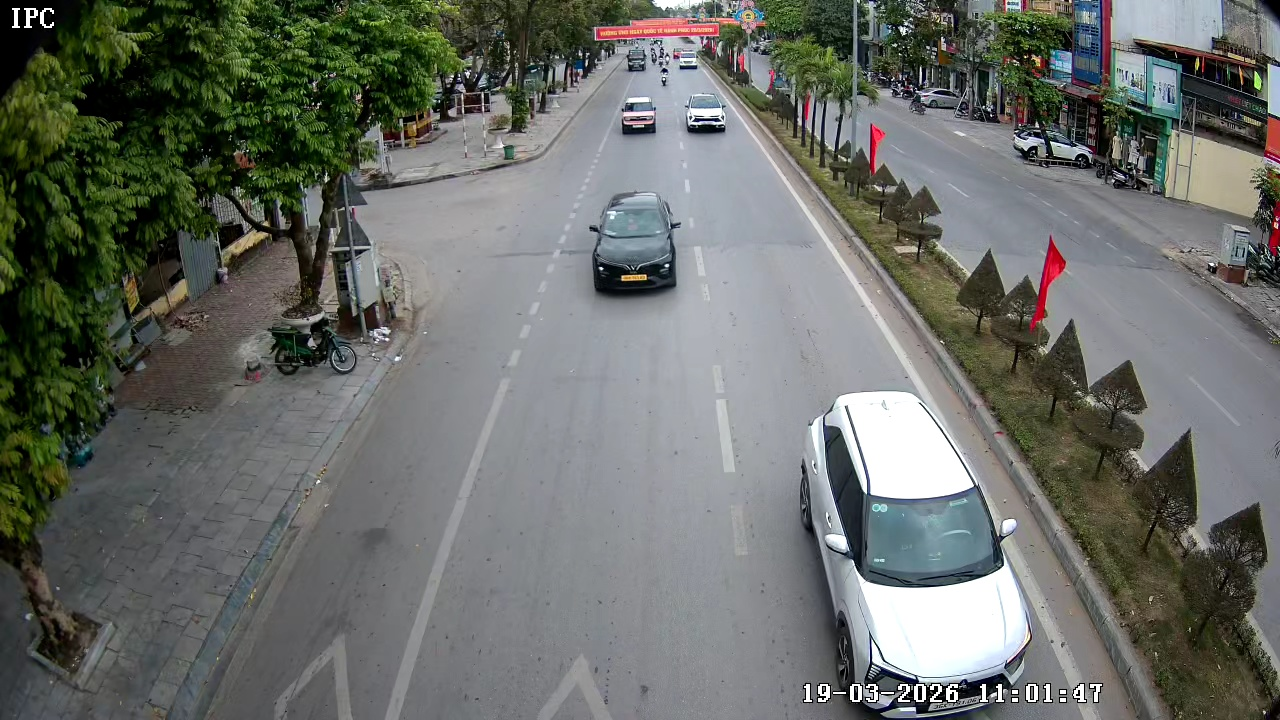car: (800, 390, 1033, 714), (588, 190, 682, 295), (684, 90, 728, 134), (618, 95, 659, 136), (678, 50, 699, 71)
motorbike: (656, 65, 675, 89)
truck: (625, 47, 648, 73)
